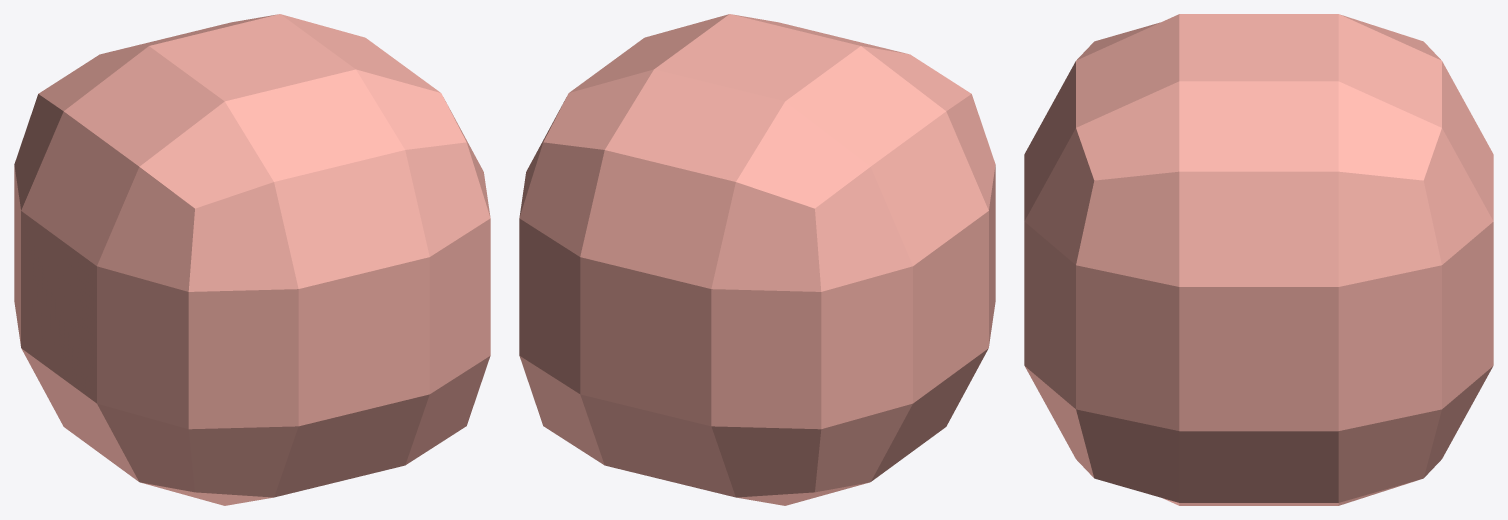
File: dots.glb
The picture shows the model from 3 angles, left to right: view 1: azimuth 30°, elevation 25°; view 2: azimuth 150°, elevation 25°; view 3: azimuth 270°, elevation 25°; orthographic projection. The views are drawn at different scales.
Visible parts, largest first — view 1: Sphere; view 2: Sphere; view 3: Sphere.
Part boxes in pixels (<box>): Sphere: <box>14,14,490,505</box>; Sphere: <box>519,14,995,505</box>; Sphere: <box>1024,14,1493,505</box>.
Bounding box in the file's own units: 1.64 × 1.64 × 1.64.
